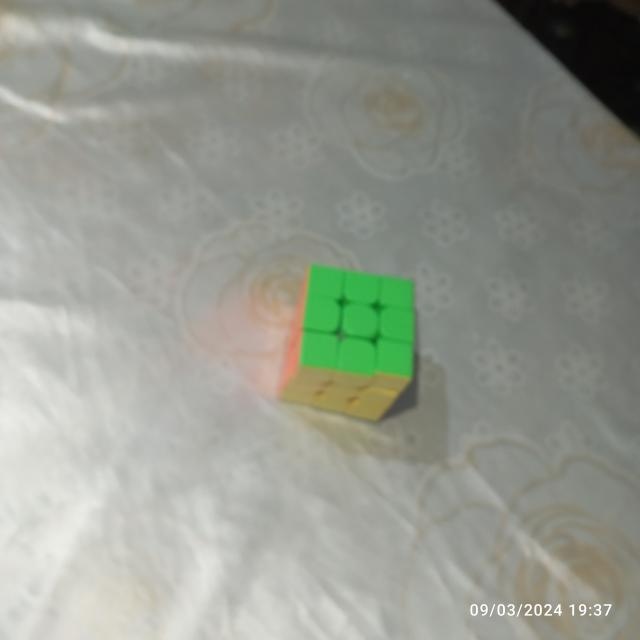Rub: (278, 256, 420, 426)
